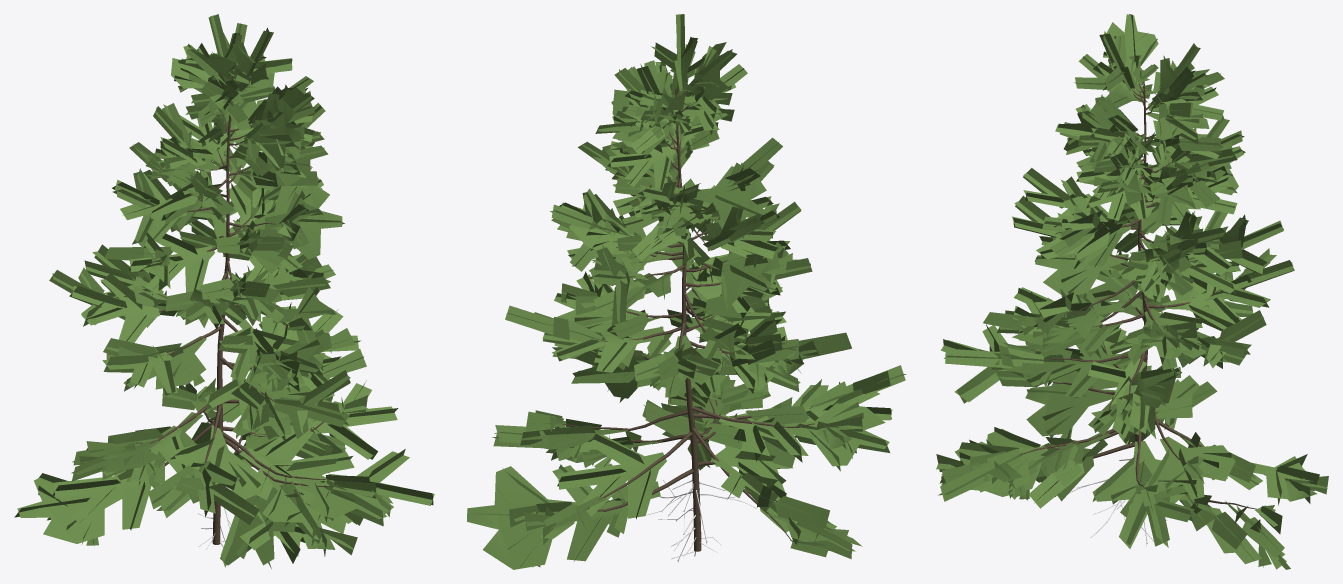
File: Tree1.003_HighDetail.fbx
The picture shows the model from 3 angles, left to right: view 1: azimuth 30°, elevation 25°; view 2: azimuth 150°, elevation 25°; view 3: azimuth 270°, elevation 25°; orthographic projection.
Parts seen in each view (by area): view 1: fir_sapling_medium_c_LOD2; view 2: fir_sapling_medium_c_LOD2; view 3: fir_sapling_medium_c_LOD2.
Boxes of the visible parts, x1,y1,x2,y2 form: fir_sapling_medium_c_LOD2: (14, 14, 434, 568); fir_sapling_medium_c_LOD2: (467, 14, 906, 569); fir_sapling_medium_c_LOD2: (936, 14, 1328, 569).
Bounding box in the file's own units: 432 × 594 × 404.
